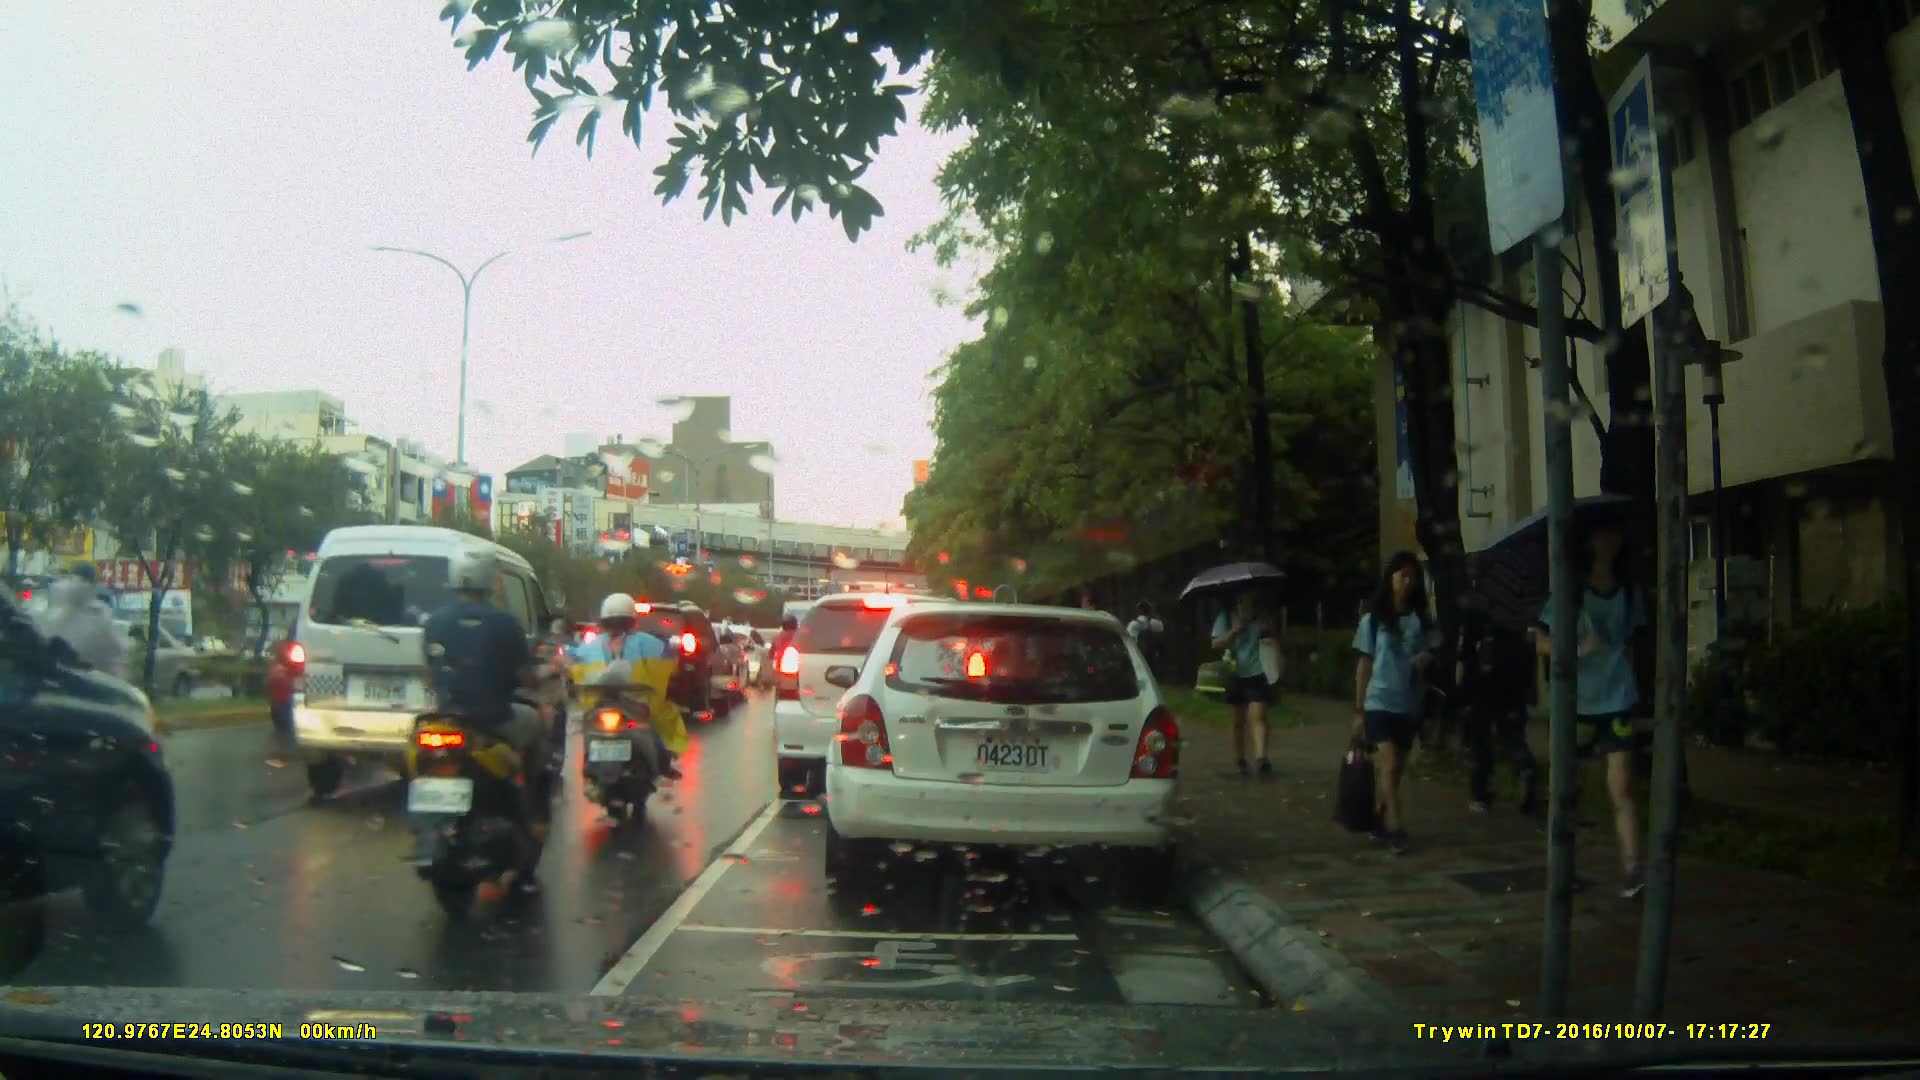pedestrian: (1525, 509, 1679, 916), (1341, 543, 1450, 871), (1459, 544, 1561, 833), (1197, 571, 1285, 790)
rider: (396, 537, 556, 913), (576, 595, 691, 823), (51, 557, 153, 792), (765, 608, 808, 718)
vehicle: (815, 593, 1204, 909), (288, 523, 568, 805), (4, 546, 182, 977), (770, 590, 994, 802), (579, 603, 737, 725)
